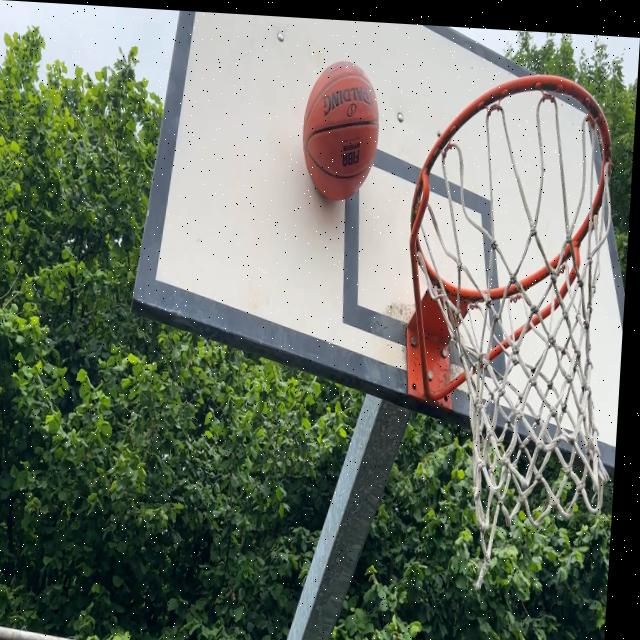rebound_hit: (298, 59, 383, 207)
